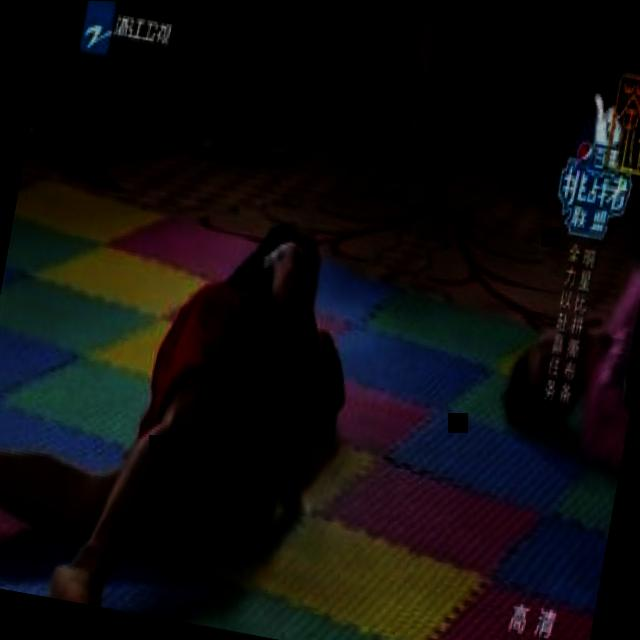Fall-Detected: (465, 86, 640, 498)
